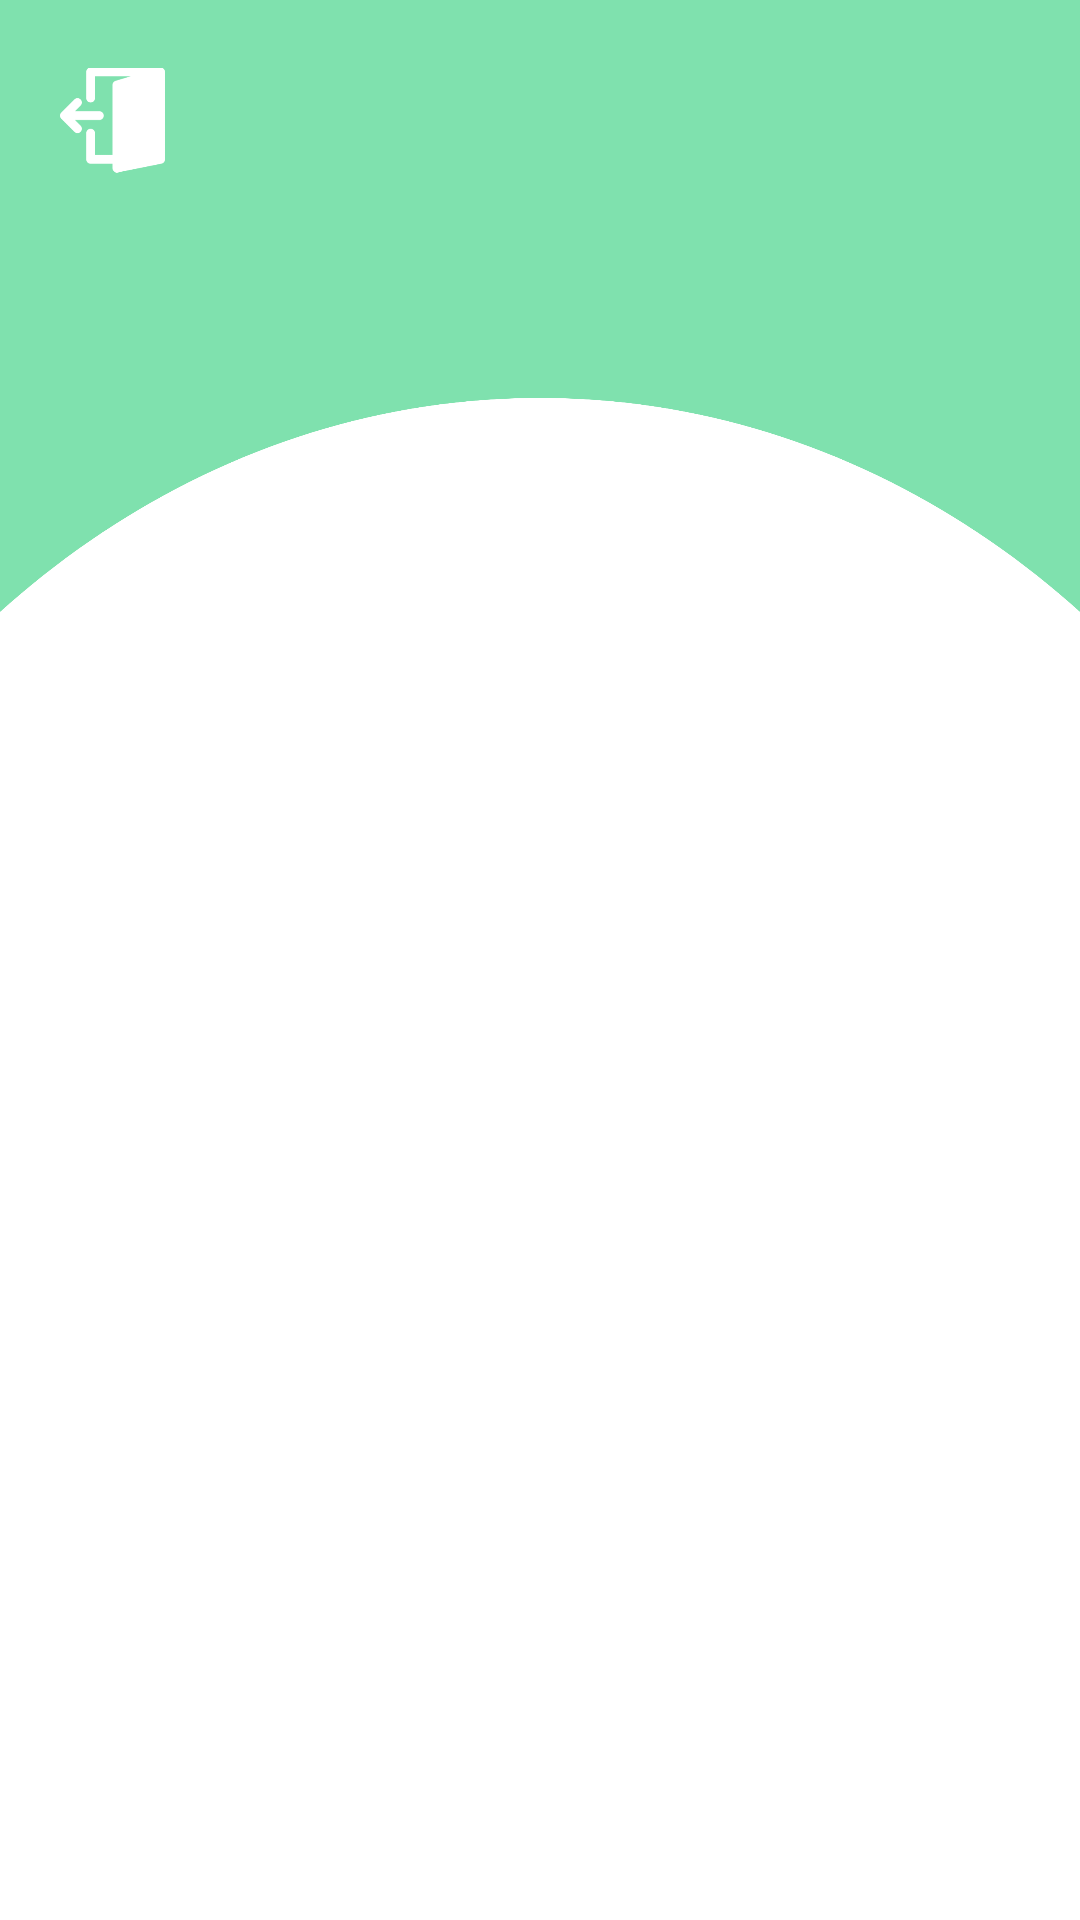

Icon click points for this 1080*1920 phone screenshot, format (x=x, y=y):
cerrar sesion: (x=112, y=120)
